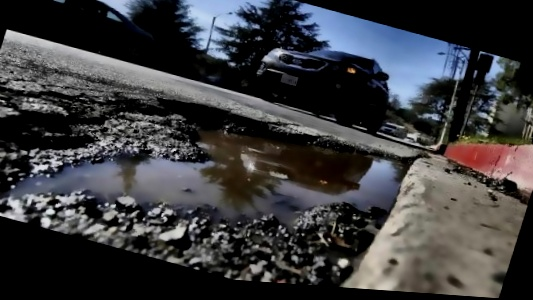pothole: (0, 43, 428, 292)
